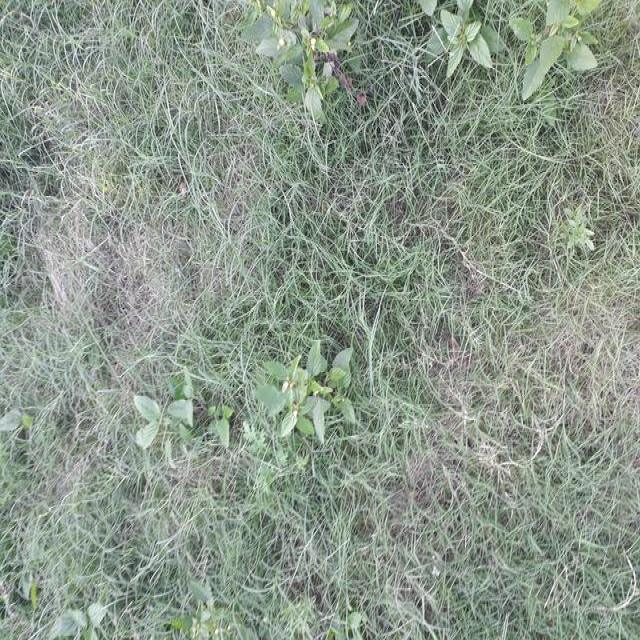weed: (422, 0, 598, 94), (256, 9, 374, 114), (261, 350, 351, 443), (120, 398, 202, 461), (564, 205, 597, 259)
